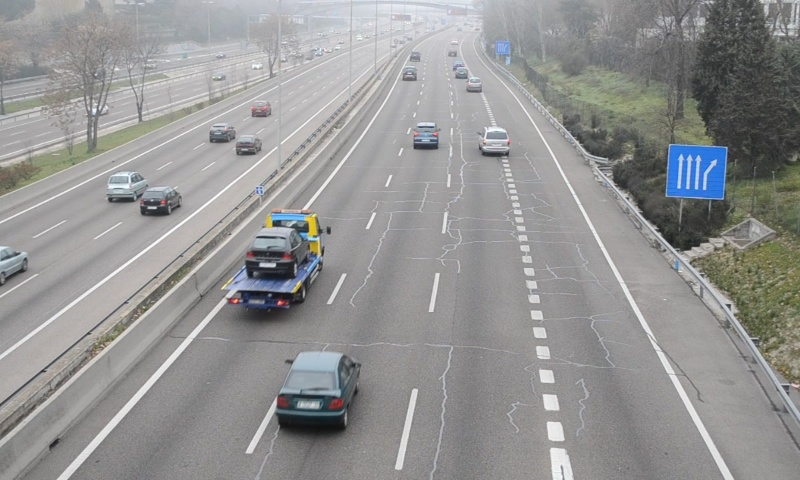car: (276, 352, 360, 424), (481, 126, 510, 156), (412, 122, 438, 147), (466, 76, 482, 93), (402, 66, 417, 82)
small-truck: (219, 209, 324, 305)
